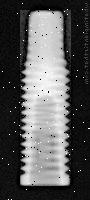Neodent: (20, 10, 71, 186)
